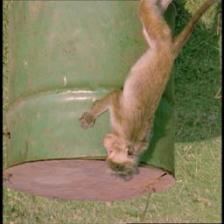monkey: (94, 124, 142, 180)
